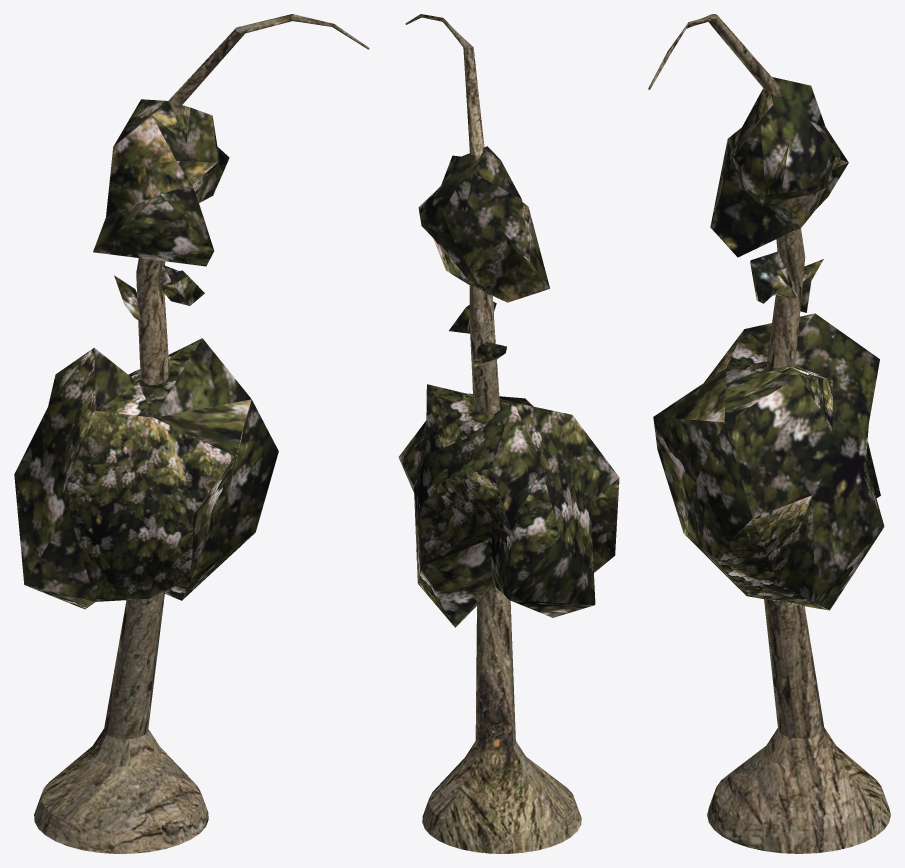
Rendered from FluffPlantDry.fbx.
3 views of the same model, side by side, from view 1: azimuth 30°, elevation 25°; view 2: azimuth 150°, elevation 25°; view 3: azimuth 270°, elevation 25° (orthographic). The views are drawn at different scales.
Parts seen in each view (by area): view 1: FluffPlantDry; view 2: FluffPlantDry; view 3: FluffPlantDry.
Boxes of the visible parts, x1,y1,x2,y2 form: FluffPlantDry: (14,14,369,853); FluffPlantDry: (398,14,619,853); FluffPlantDry: (648,14,890,853).
Size of the model in its own units: 0.2998 by 0.2171 by 0.8414.
